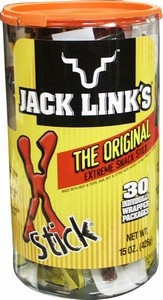grozi_100: (0, 0, 163, 299)
